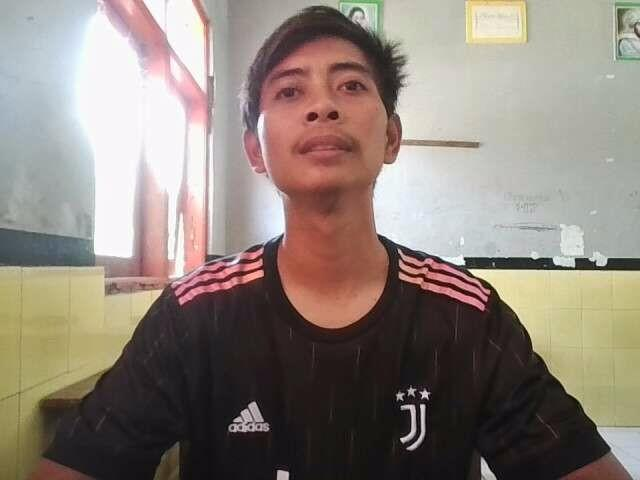cheating: (19, 6, 623, 480)
